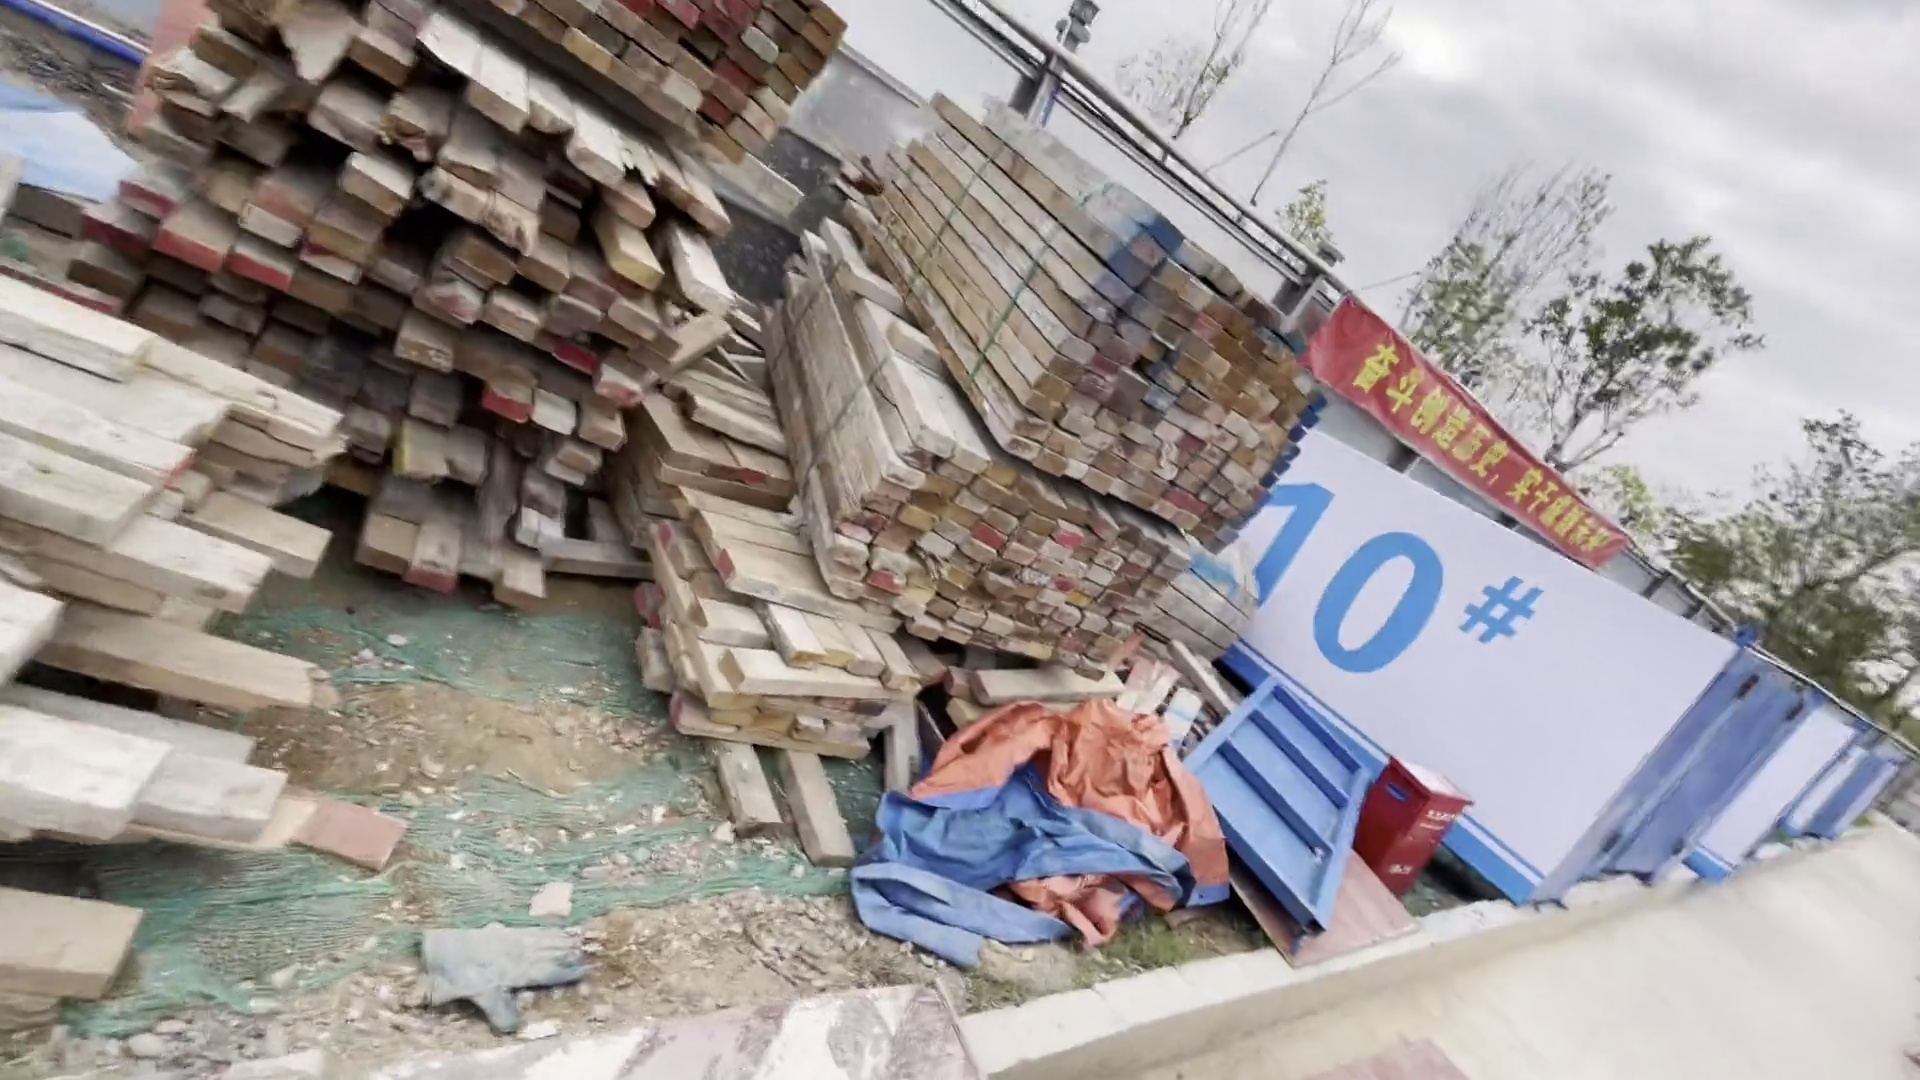slogan: (1337, 285, 1644, 559)
wood: (174, 1, 765, 574), (845, 83, 1331, 662)
